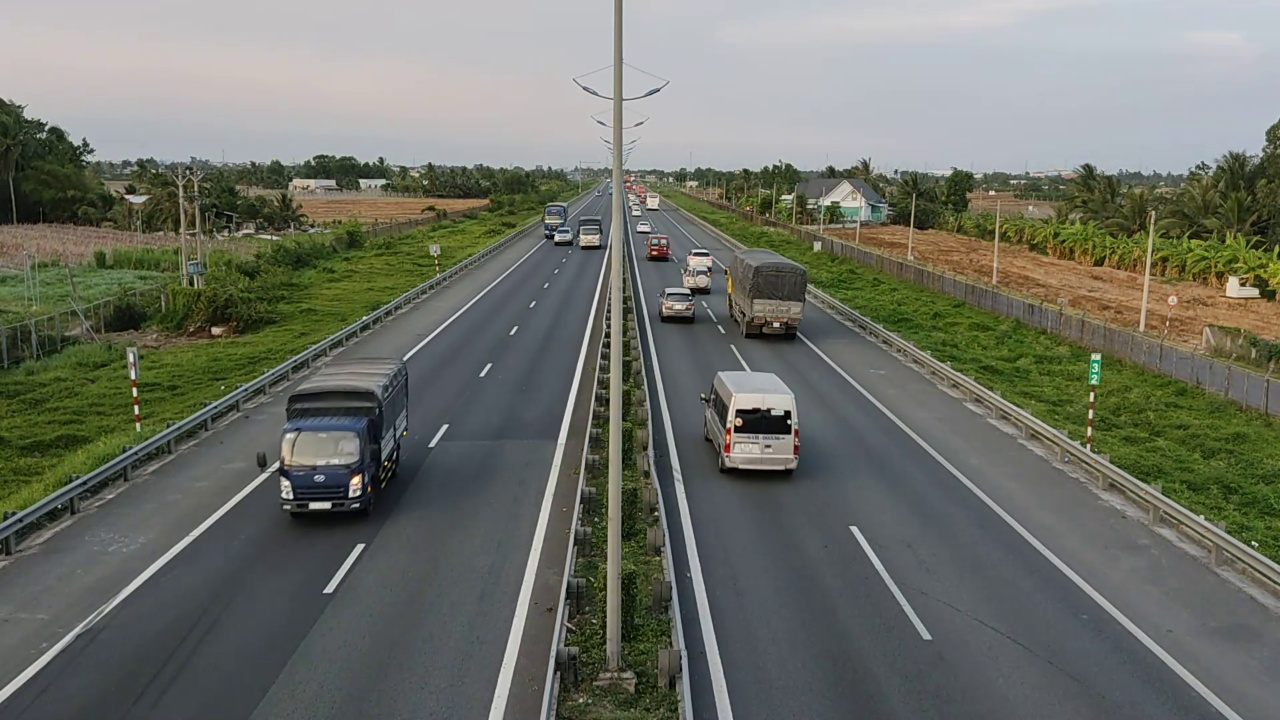car: (699, 370, 801, 473), (657, 287, 695, 322), (644, 234, 673, 261)
truck: (273, 356, 411, 519), (726, 247, 808, 338), (578, 215, 603, 249)
